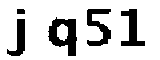1: (119, 7, 146, 51)
5: (82, 5, 114, 53)
j: (6, 5, 33, 60)
q: (46, 16, 78, 60)
